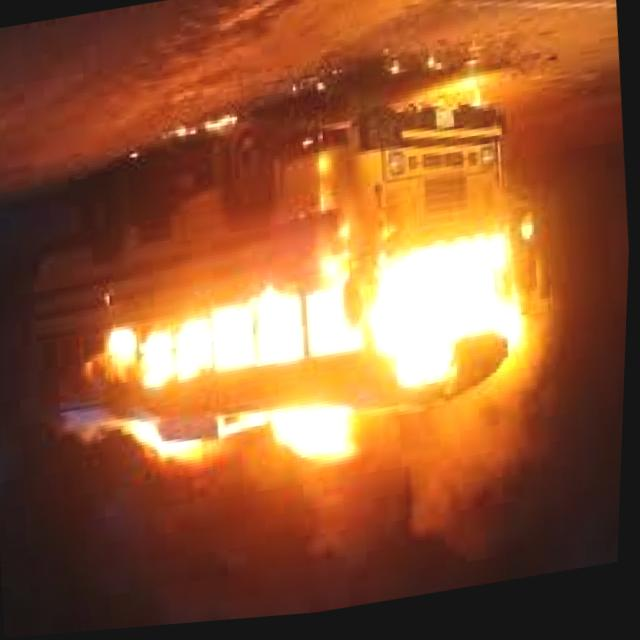helmet: (54, 238, 557, 525)
